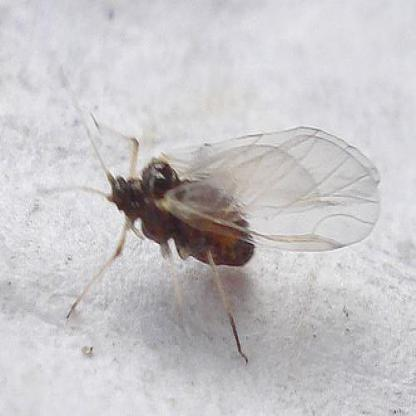aphid: (59, 73, 381, 360)
